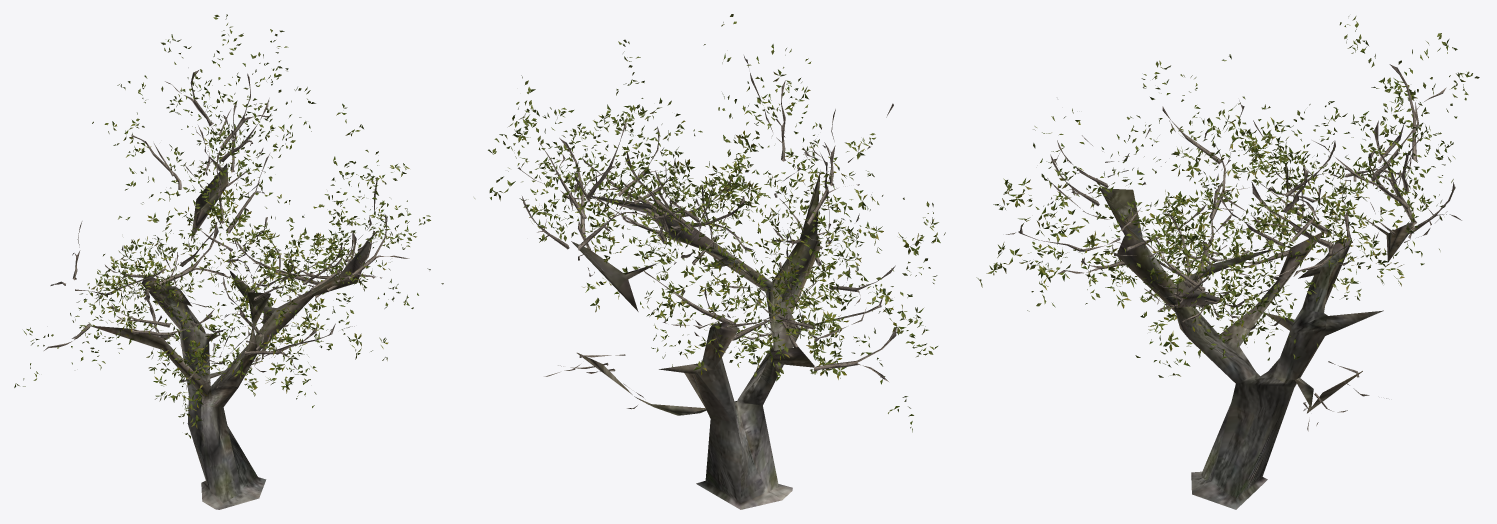
The model's file is island_tree_01.lod.glb.
The picture shows the model from 3 angles, left to right: view 1: azimuth 30°, elevation 25°; view 2: azimuth 150°, elevation 25°; view 3: azimuth 270°, elevation 25°; orthographic projection. The views are drawn at different scales.
Visible parts, largest first — view 1: island_tree_01_LOD0; view 2: island_tree_01_LOD0; view 3: island_tree_01_LOD0.
Part boxes in pixels (x1,y1,x2,y2): island_tree_01_LOD0: [14, 14, 443, 509]; island_tree_01_LOD0: [474, 14, 945, 509]; island_tree_01_LOD0: [976, 16, 1479, 509].
Bounding box in the file's own units: 4.68 × 4.95 × 4.52.
Materials: 3 (3 with a texture image).
